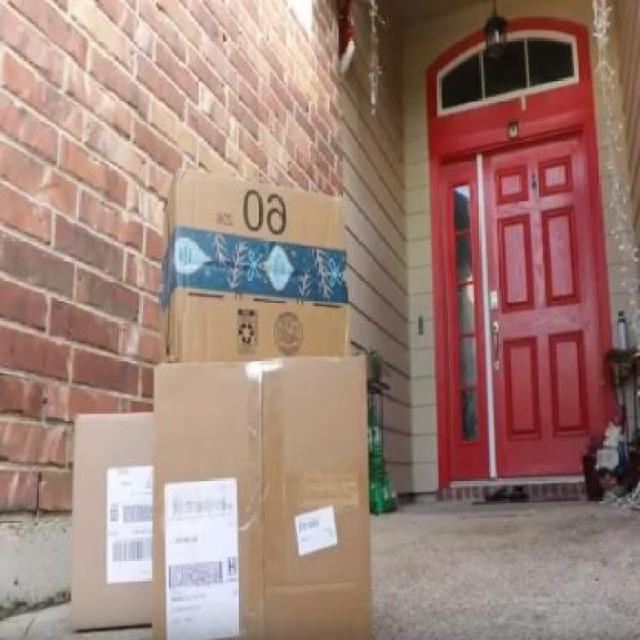cardboxes: (151, 346, 372, 639), (156, 184, 350, 370), (72, 409, 153, 633)
